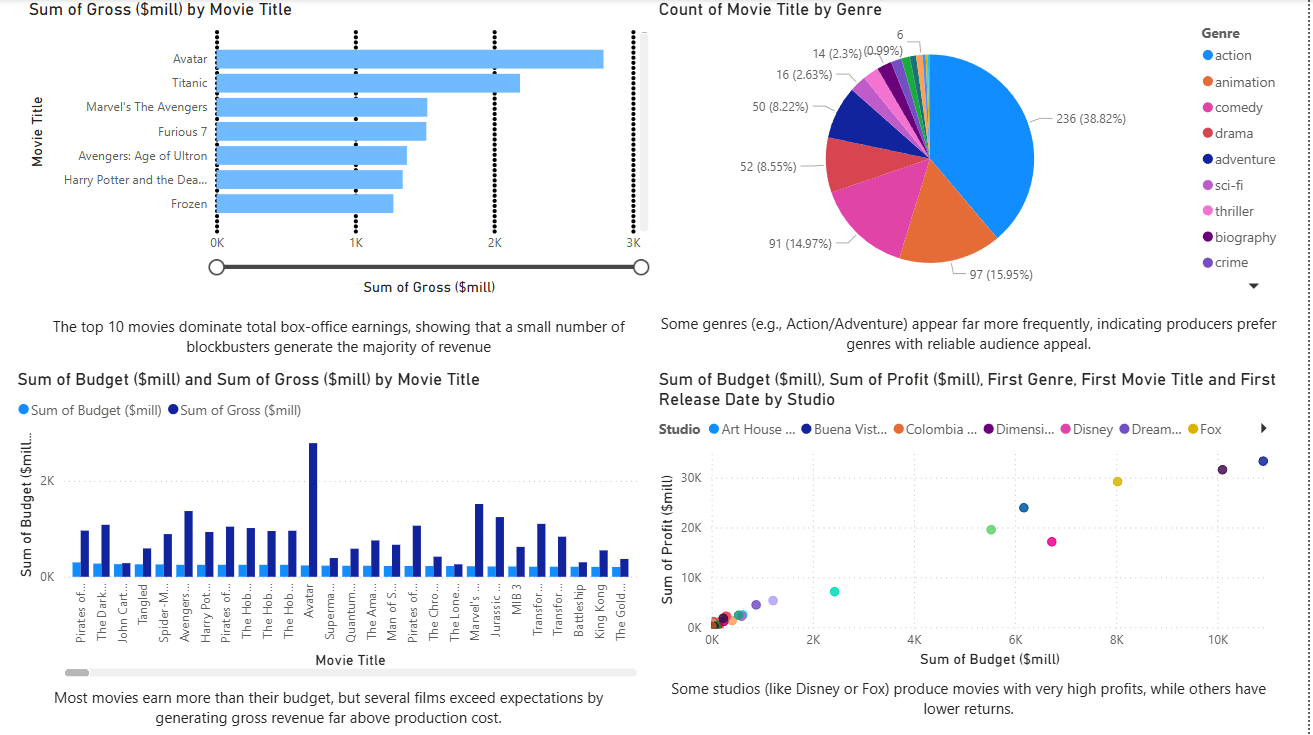

This screenshot's page, from the dashboard's own definition file:
{"tool":"powerbi","page":{"name":"Page 1","canvas":[1280,720],"ordinal":0},"visuals":[{"type":"barChart","fields":{"Category":["Movie-Gross-Ratings_v3.Movie Title"],"Y":["Sum(Movie-Gross-Ratings_v3.Gross ($mill))"]},"box":[23.3,0,616.1,293.7],"z":0},{"type":"textbox","box":[23.3,304.6,616.1,54.9],"z":1000},{"type":"pieChart","fields":{"Category":["Movie-Gross-Ratings_v3.Genre"],"Y":["CountNonNull(Movie-Gross-Ratings_v3.Movie Title)"]},"box":[639.5,0,640.8,293.7],"z":2000},{"type":"textbox","box":[639.5,301.9,616.1,60.4],"z":3000},{"type":"clusteredColumnChart","fields":{"Y":["Sum(Movie-Gross-Ratings_v3.Budget ($mill))","Sum(Movie-Gross-Ratings_v3.Gross ($mill))"],"Category":["Movie-Gross-Ratings_v3.Movie Title"]},"box":[12.3,362.3,616.1,306],"z":4000},{"type":"textbox","box":[639.5,362.3,616.1,76.8],"z":5000},{"type":"textbox","box":[13.7,668.3,616.1,52.1],"z":5001},{"type":"scatterChart","fields":{"X":["Sum(Movie-Gross-Ratings_v3.Budget ($mill))"],"Y":["Sum(Movie-Gross-Ratings_v3.Profit ($mill))"],"Series":["Movie-Gross-Ratings_v3.Studio"]},"box":[639.5,362.3,616.1,296.4],"z":5002},{"type":"textbox","box":[639.5,658.7,616.1,61.7],"z":5003}]}

Visuals, with their boxes in screenshot pixels (x1, y1, x2, y2), scaled from the page's 1280x720 canvas onto the 1313x735 screenshot:
barChart - Movie-Gross-Ratings_v3.Movie Title x Sum(Movie-Gross-Ratings_v3.Gross ($mill)): BBox(24, 0, 656, 300)
textbox: BBox(24, 311, 656, 367)
pieChart - Movie-Gross-Ratings_v3.Genre x CountNonNull(Movie-Gross-Ratings_v3.Movie Title): BBox(656, 0, 1312, 300)
textbox: BBox(656, 308, 1288, 370)
clusteredColumnChart - Sum(Movie-Gross-Ratings_v3.Budget ($mill)) x Sum(Movie-Gross-Ratings_v3.Gross ($mill)): BBox(13, 370, 645, 682)
textbox: BBox(656, 370, 1288, 448)
textbox: BBox(14, 682, 646, 734)
scatterChart - Sum(Movie-Gross-Ratings_v3.Budget ($mill)) x Sum(Movie-Gross-Ratings_v3.Profit ($mill)): BBox(656, 370, 1288, 672)
textbox: BBox(656, 672, 1288, 734)
